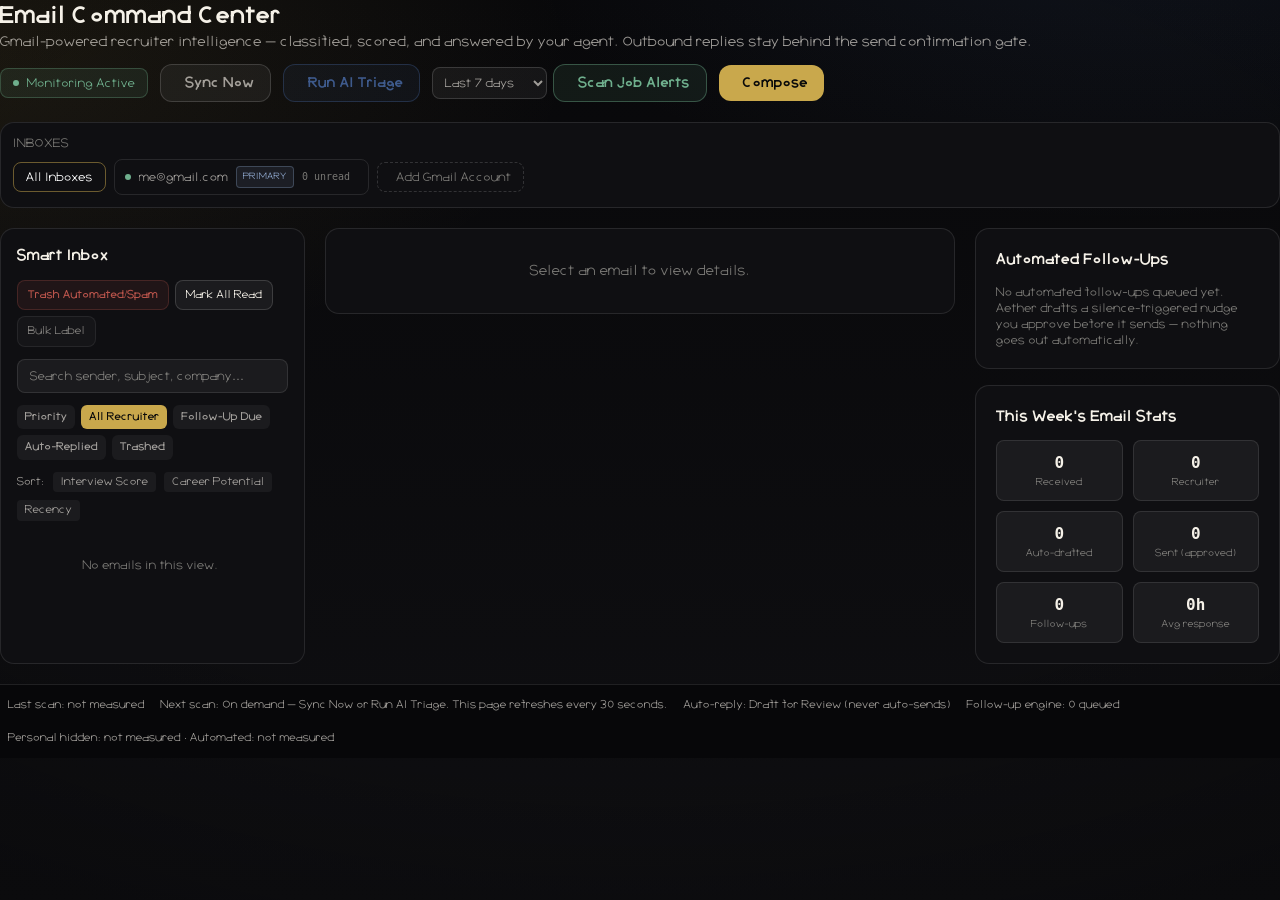
Test: BLOCKER: the job-alert intake is reachable from the product › a real control on the Email Center runs mode job_alerts and shows the REAL counts
Click the button with test id "run-job-alerts-btn": {"x": 630, "y": 83} [553, 64, 707, 102]
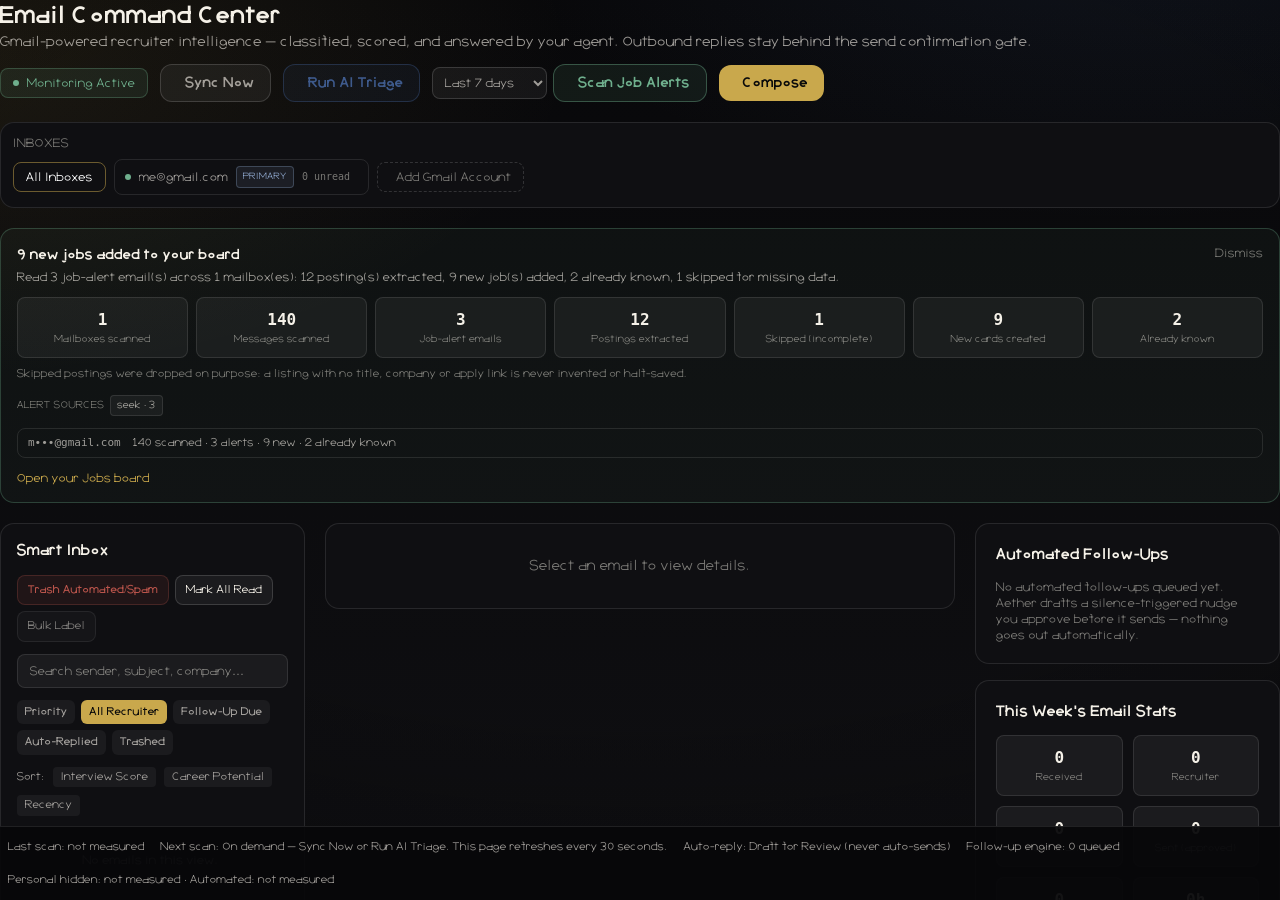
Expected: the message with test id "job-alerts-result" shows "9 new jobs added to your board", [17, 248, 240, 262]
Expected: the element with test id "job-alerts-messages-scanned" shows "140", [267, 310, 296, 329]
Expected: the element with test id "job-alerts-alert-emails" shows "3", [456, 310, 466, 329]
